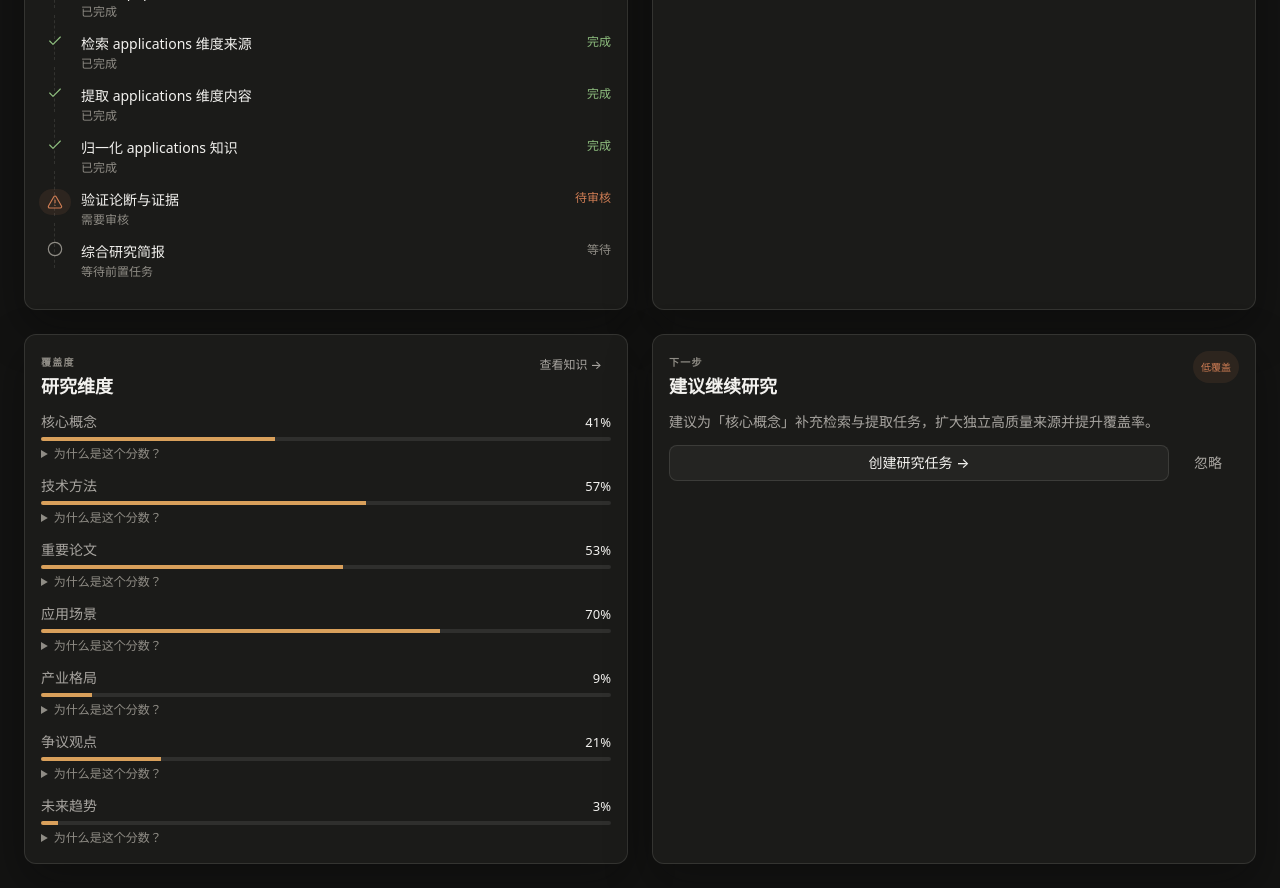
OverviewPage › dismisses the top proposal and falls through to the next pending gap
(page scrolled)
Expected: the element with test id "overview-next" shows "核心概念", [669,412,1159,431]
Click the button with aria-label "忽略该建议" at coordinates (1208, 463), box [1177,445,1239,481]
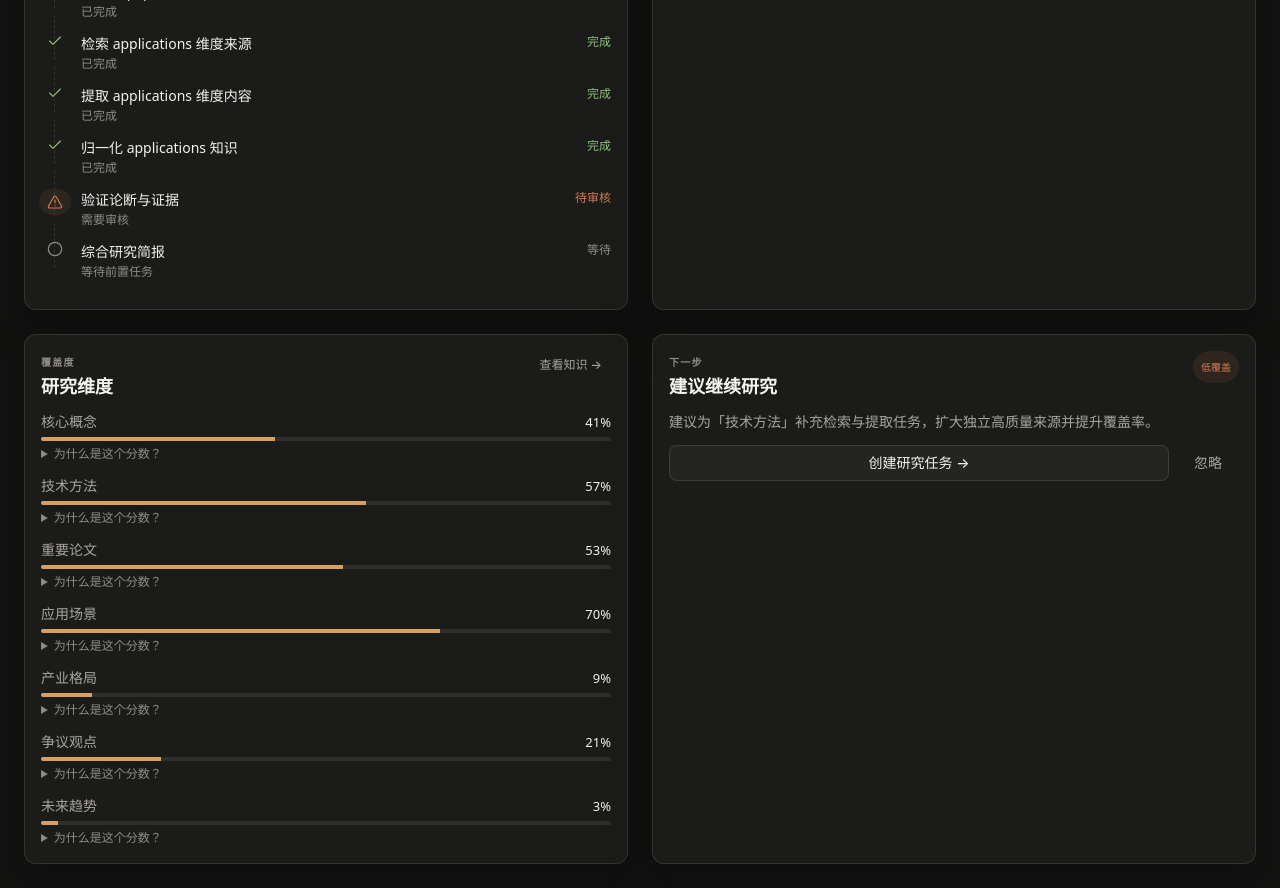
Expected: the button "创建研究任务 →" is shown, [669,445,1169,481]
Result: the element with test id "overview-next" shows "技术方法" at [669,412,1159,431]
